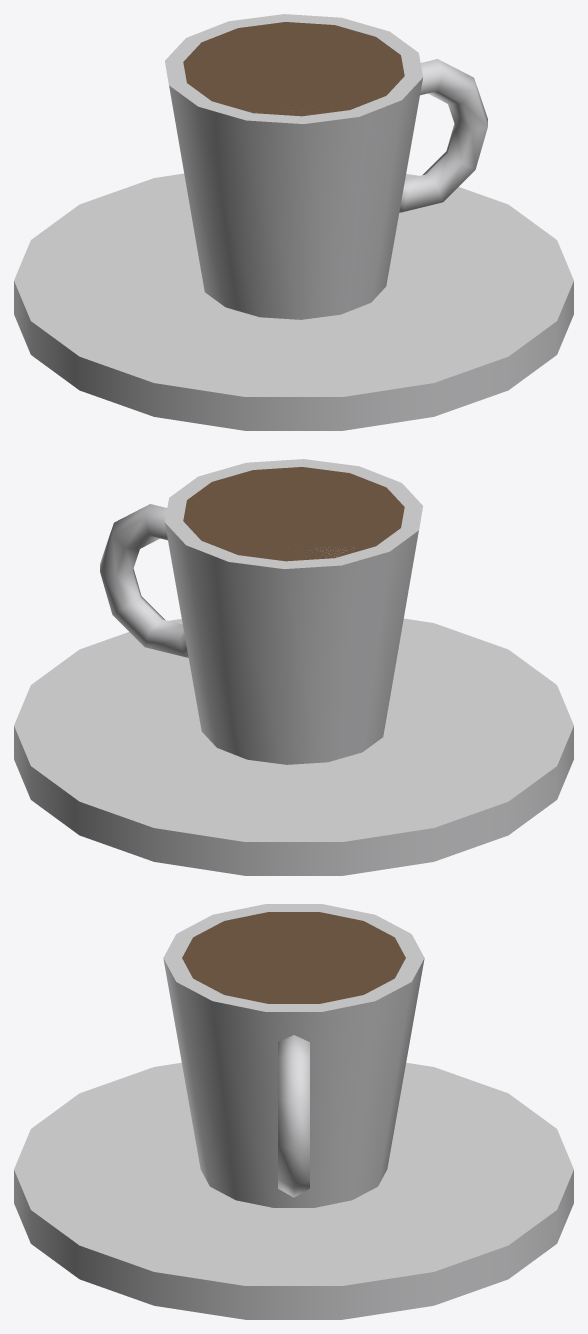
The model's file is EspressoCupSaucer.glb.
3 renders of one model, top to bottom at view 1: azimuth 30°, elevation 25°; view 2: azimuth 150°, elevation 25°; view 3: azimuth 270°, elevation 25°, orthographic.
Parts seen in each view (by area): view 1: EspressoCupSaucer; view 2: EspressoCupSaucer; view 3: EspressoCupSaucer.
Part boxes in pixels (x1,y1,x2,y2): EspressoCupSaucer: [14, 14, 573, 430]; EspressoCupSaucer: [14, 459, 573, 875]; EspressoCupSaucer: [14, 904, 573, 1319].
Bounding box in the file's own units: 0.1182 × 0.058 × 0.12.
